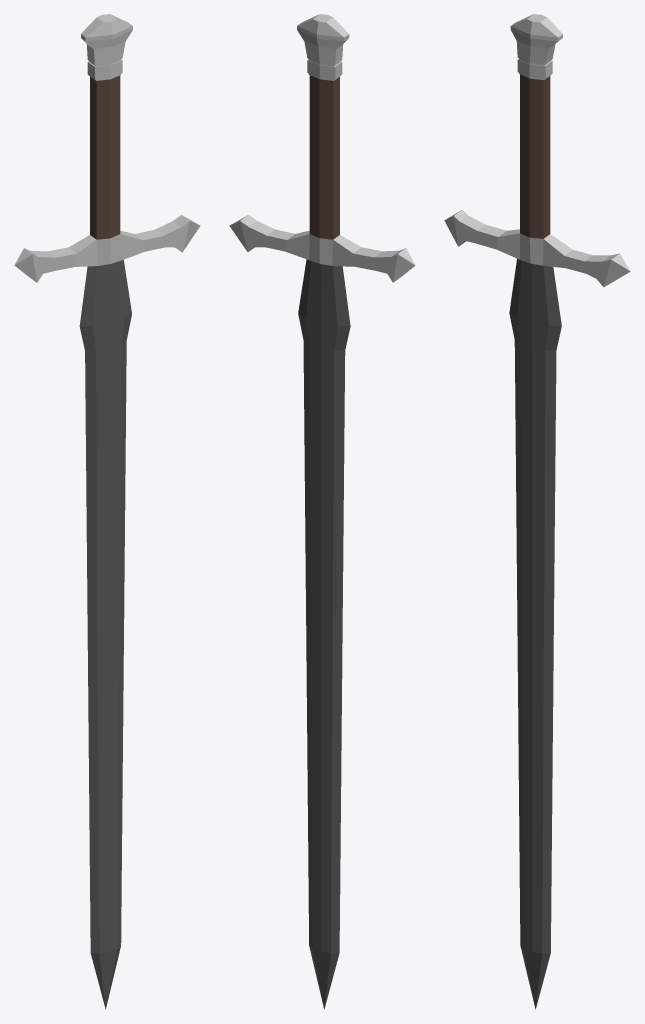
The model's file is PlayerSword.fbx.
3 renders of one model, left to right at view 1: azimuth 30°, elevation 25°; view 2: azimuth 150°, elevation 25°; view 3: azimuth 330°, elevation 25°, orthographic.
Visible parts, largest first — view 1: Cube; view 2: Cube; view 3: Cube.
Boxes of the visible parts, left/top/right/bottom form: Cube: left=14, top=14, right=200, bottom=1009; Cube: left=229, top=14, right=415, bottom=1009; Cube: left=444, top=14, right=630, bottom=1009.
Bounding box in the file's own units: 27.14 × 138 × 3.18.
